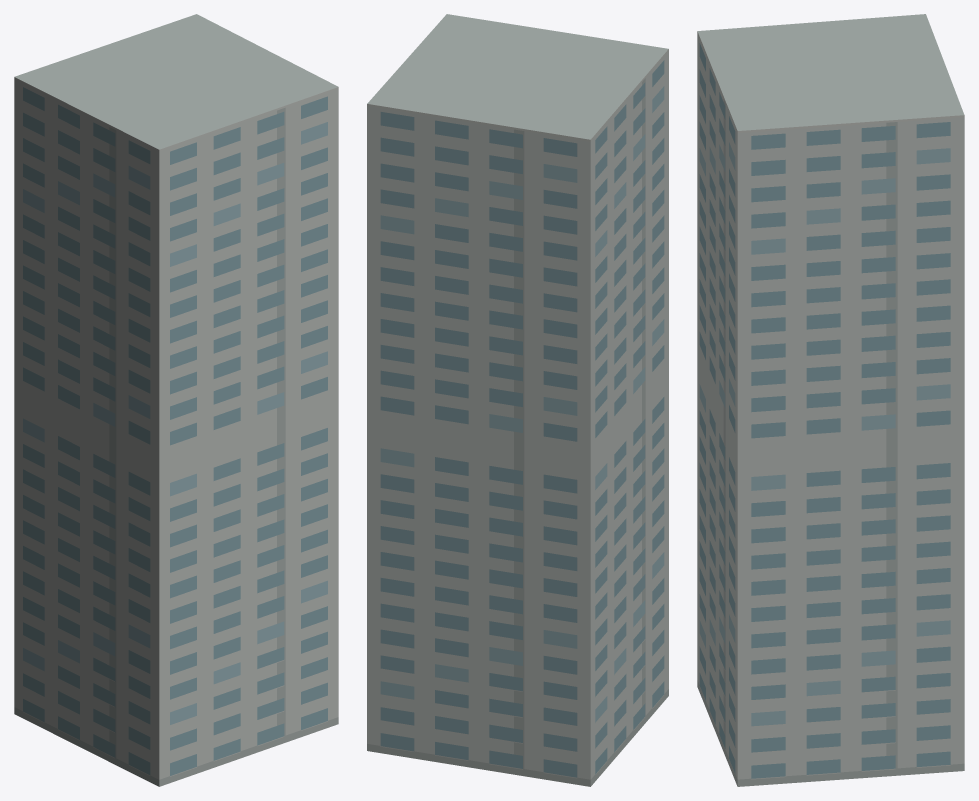
File: survey-upis-32579113.glb
The picture shows the model from 3 angles, left to right: view 1: azimuth 30°, elevation 25°; view 2: azimuth 150°, elevation 25°; view 3: azimuth 270°, elevation 25°; orthographic projection. The views are drawn at different scales.
Parts seen in each view (by area): view 1: survey-upis-32579113.tmp; view 2: survey-upis-32579113.tmp; view 3: survey-upis-32579113.tmp.
Part boxes in pixels (left/top/right/bottom): survey-upis-32579113.tmp: left=14, top=14, right=338, bottom=786; survey-upis-32579113.tmp: left=367, top=14, right=668, bottom=786; survey-upis-32579113.tmp: left=697, top=14, right=964, bottom=786.
Size of the model in its own units: 29.21 by 76.25 by 28.15.
